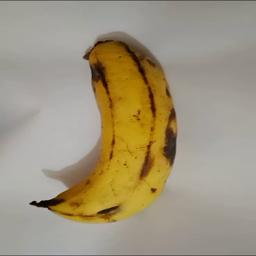Banana Semifresh: (38, 42, 178, 221)
